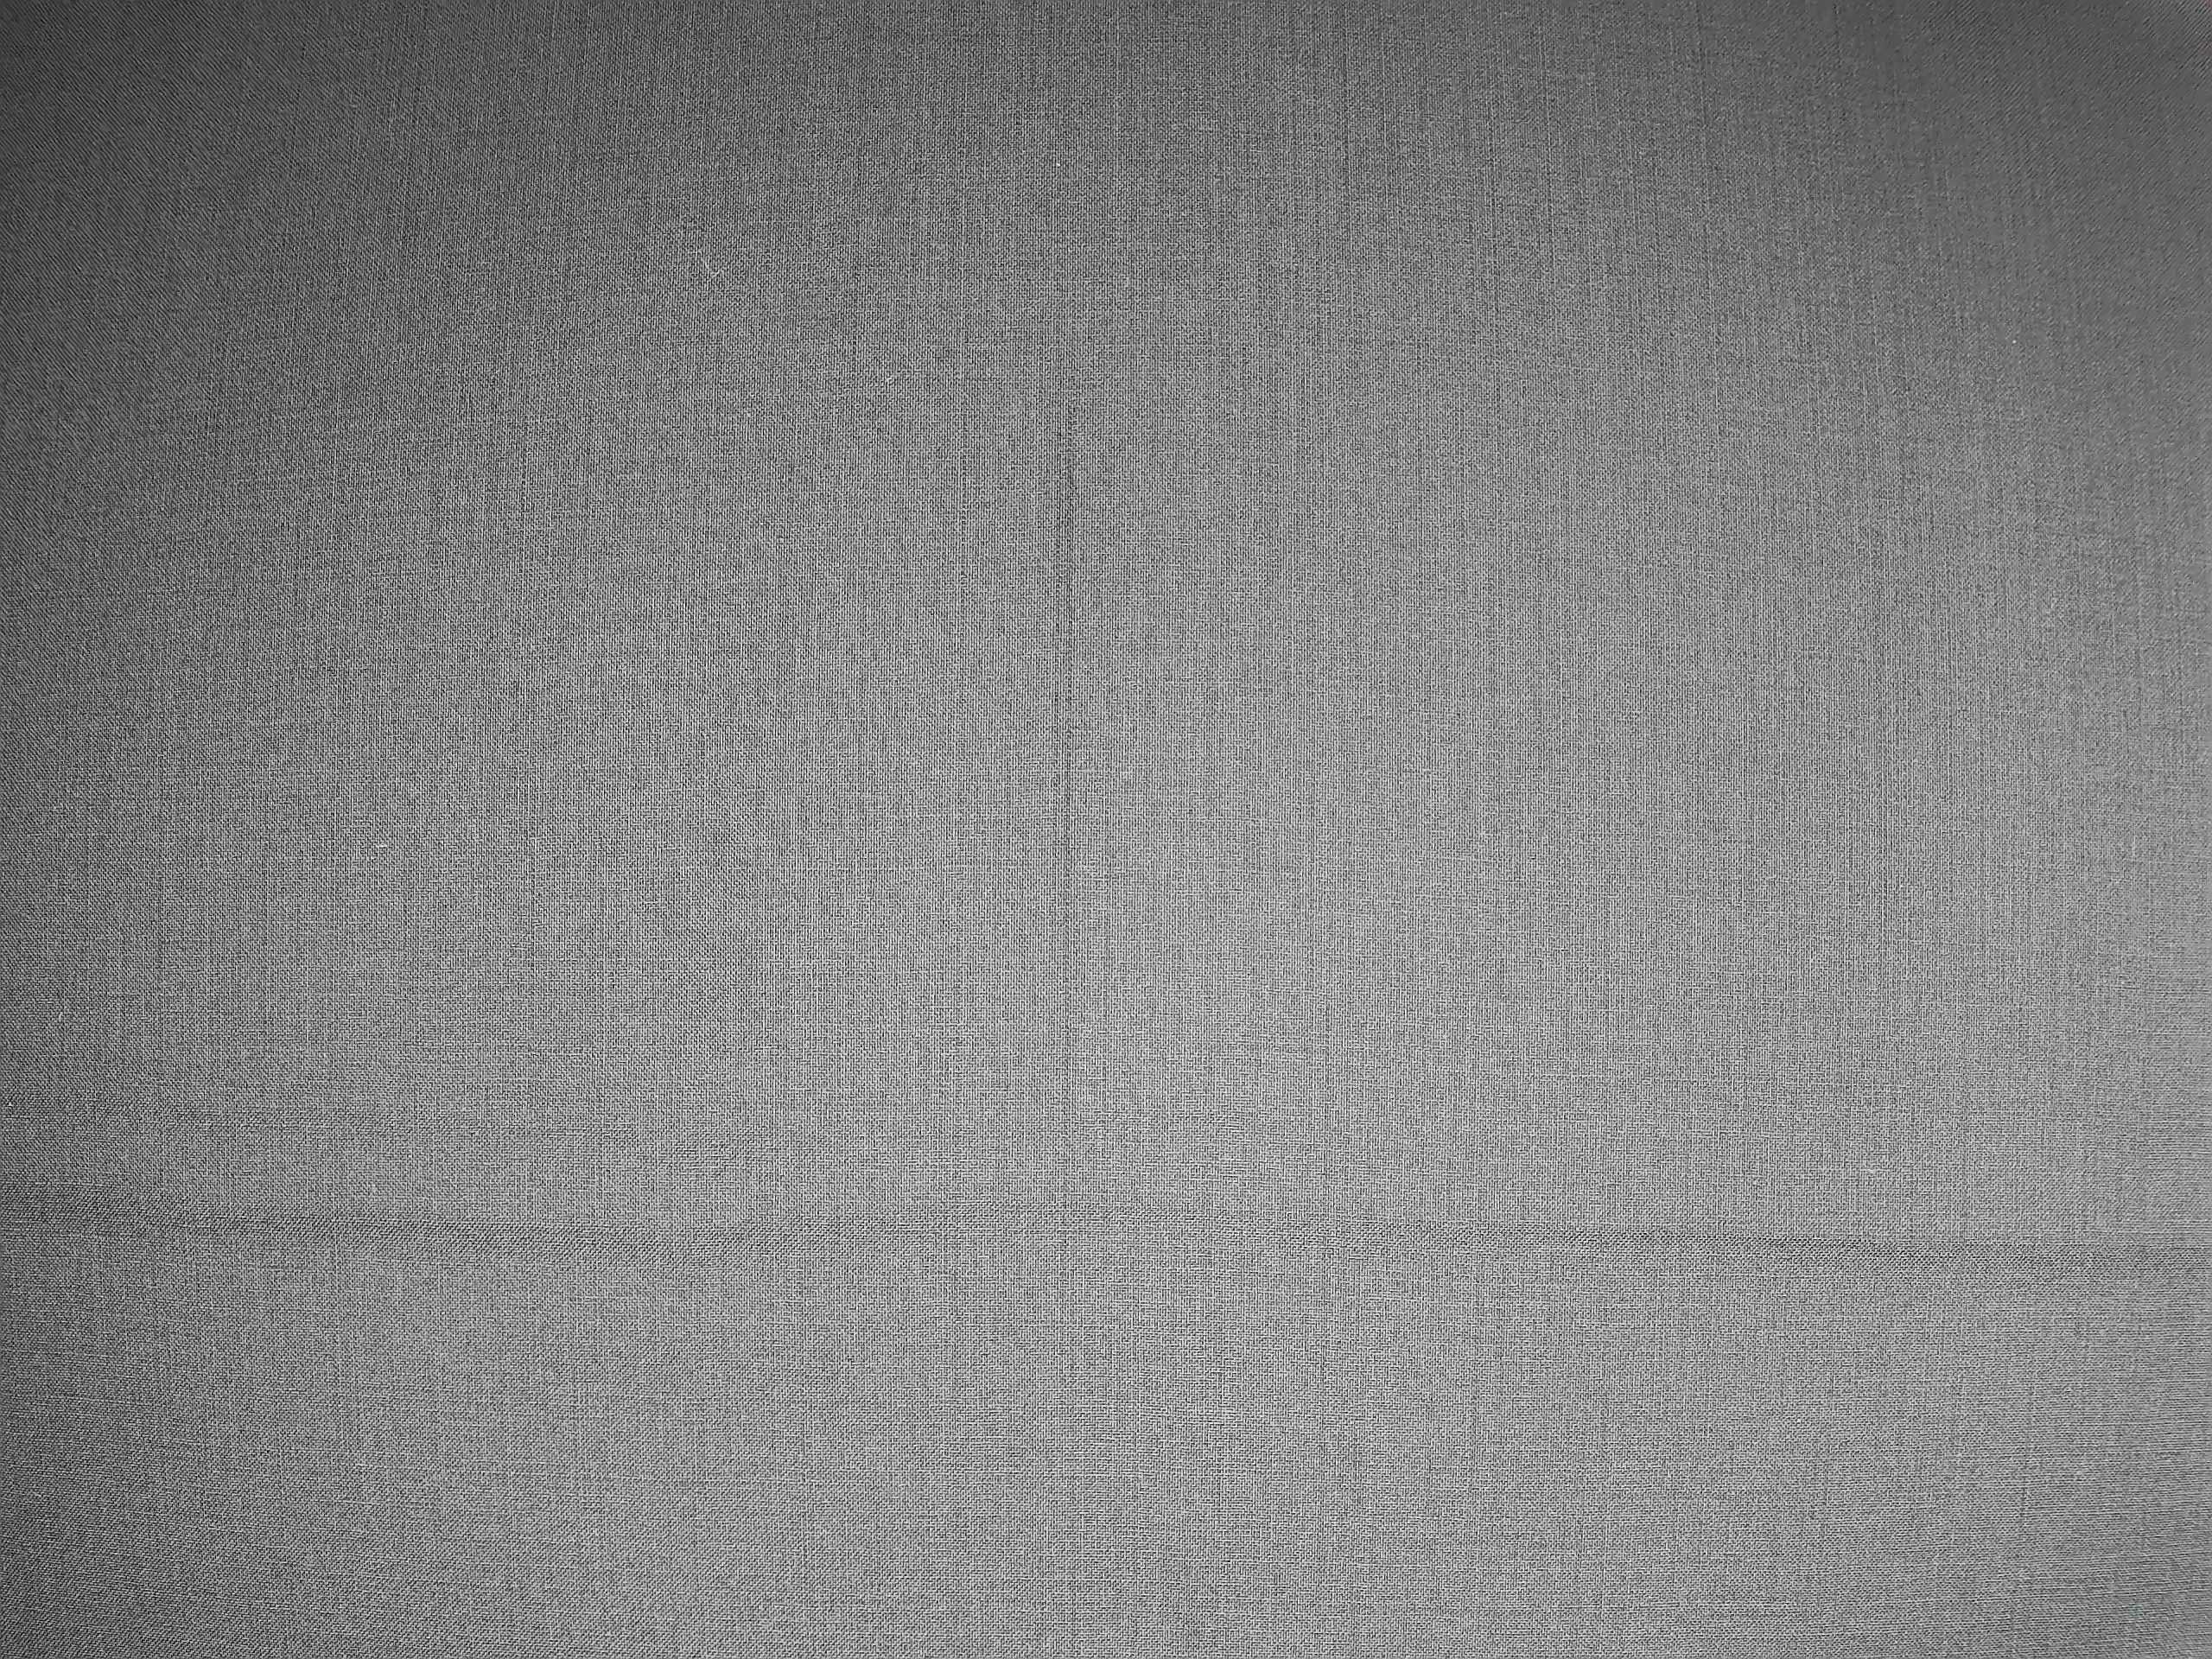hanging-warp: (1038, 364, 1094, 1084)
